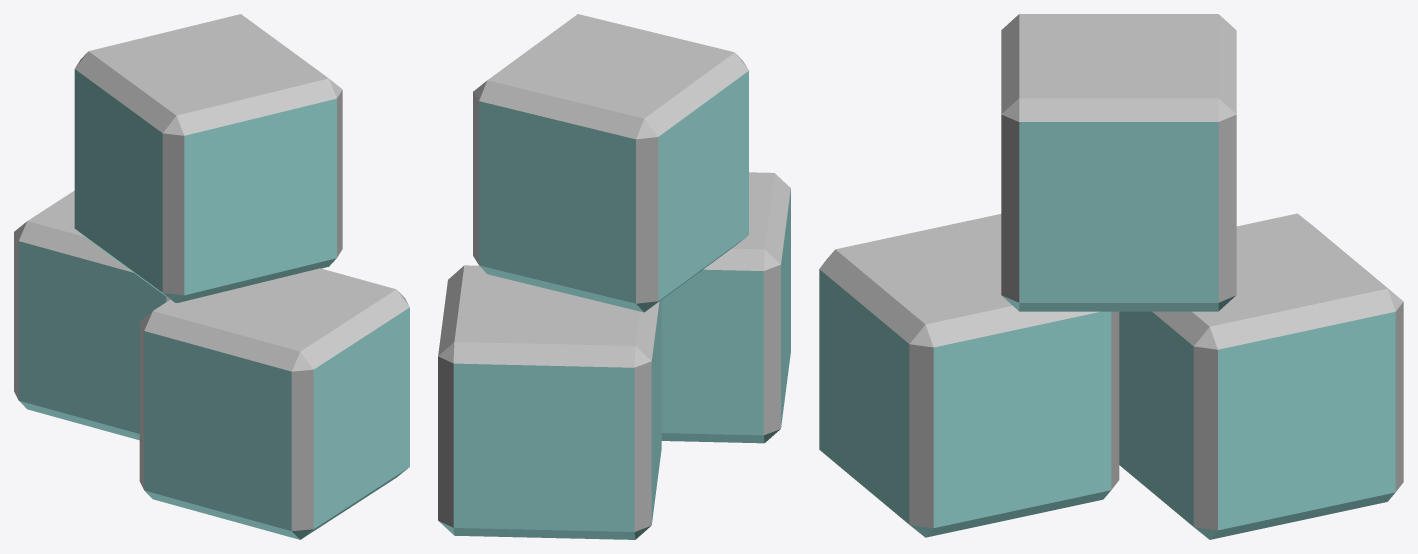
The model's file is ice.fbx.
3 renders of one model, left to right at view 1: azimuth 30°, elevation 25°; view 2: azimuth 150°, elevation 25°; view 3: azimuth 270°, elevation 25°, orthographic. The views are drawn at different scales.
Visible parts, largest first — view 1: Cube.002, Cube.001, Cube.003; view 2: Cube.002, Cube.003, Cube.001; view 3: Cube.001, Cube.002, Cube.003.
Boxes of the visible parts, x1=… form: Cube.002: x1=74, y1=14, x2=342, y2=302; Cube.001: x1=139, y1=268, x2=409, y2=539; Cube.003: x1=14, y1=190, x2=169, y2=440; Cube.002: x1=473, y1=14, x2=748, y2=312; Cube.003: x1=438, y1=265, x2=661, y2=539; Cube.001: x1=661, y1=172, x2=790, y2=443; Cube.001: x1=819, y1=214, x2=1119, y2=537; Cube.002: x1=1001, y1=14, x2=1236, y2=311; Cube.003: x1=1119, y1=213, x2=1403, y2=539.
Bounding box in the file's own units: 255 × 401 × 497.
